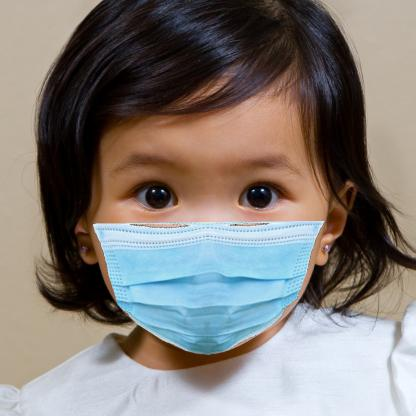Correctly_Masked: (73, 63, 356, 359)
